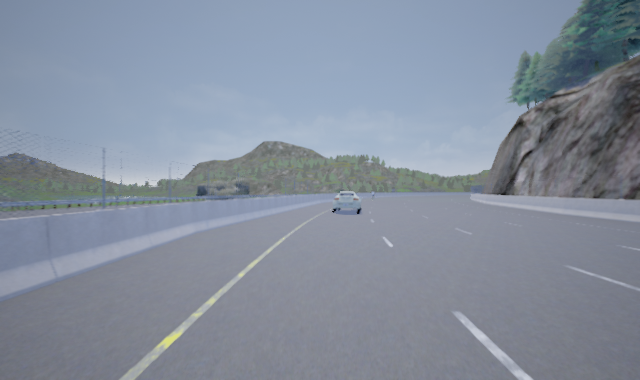vehicle: (330, 191, 362, 214)
